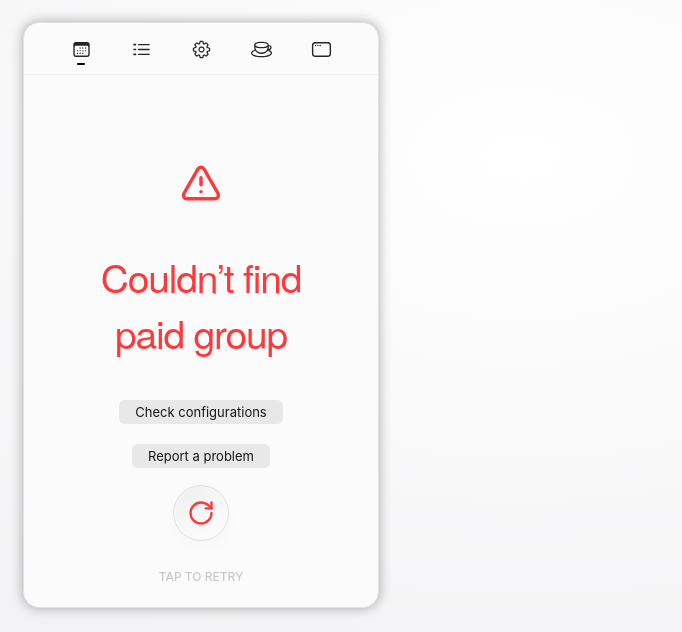
Test case: persisted worker failure screens › returns to Start after saving corrected settings for a persisted IVR failure
Click the button "Check configurations" at (201, 412), box [119,400,283,424]
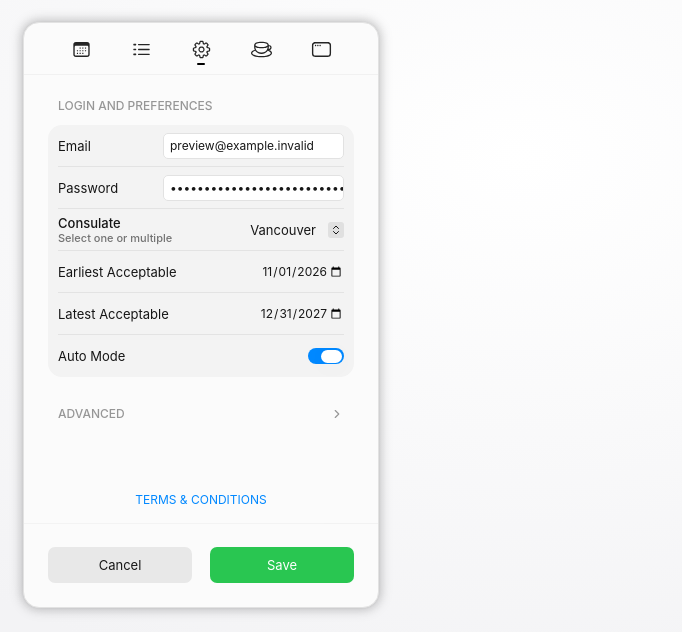
Click the button "Save" at (282, 565), box [210,547,354,583]
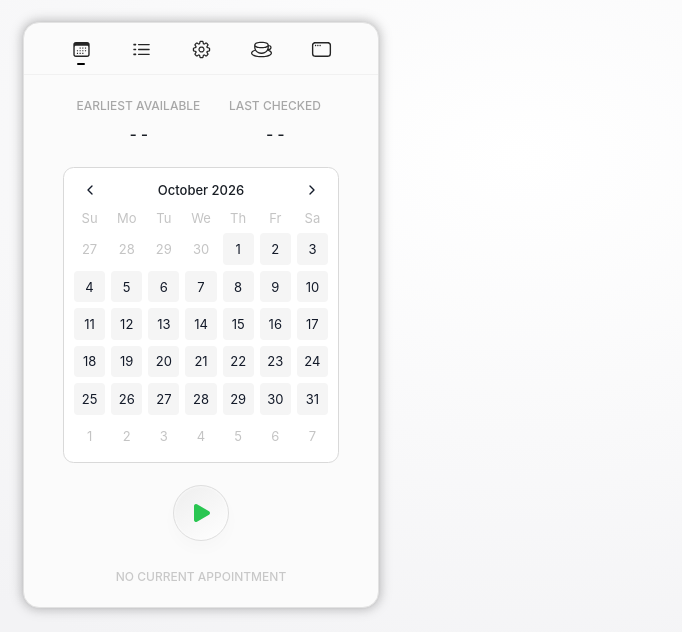
expect the heading "Couldn’t find paid group" is not shown: met
expect the button named "Start" is shown: met, box [173,485,229,541]
